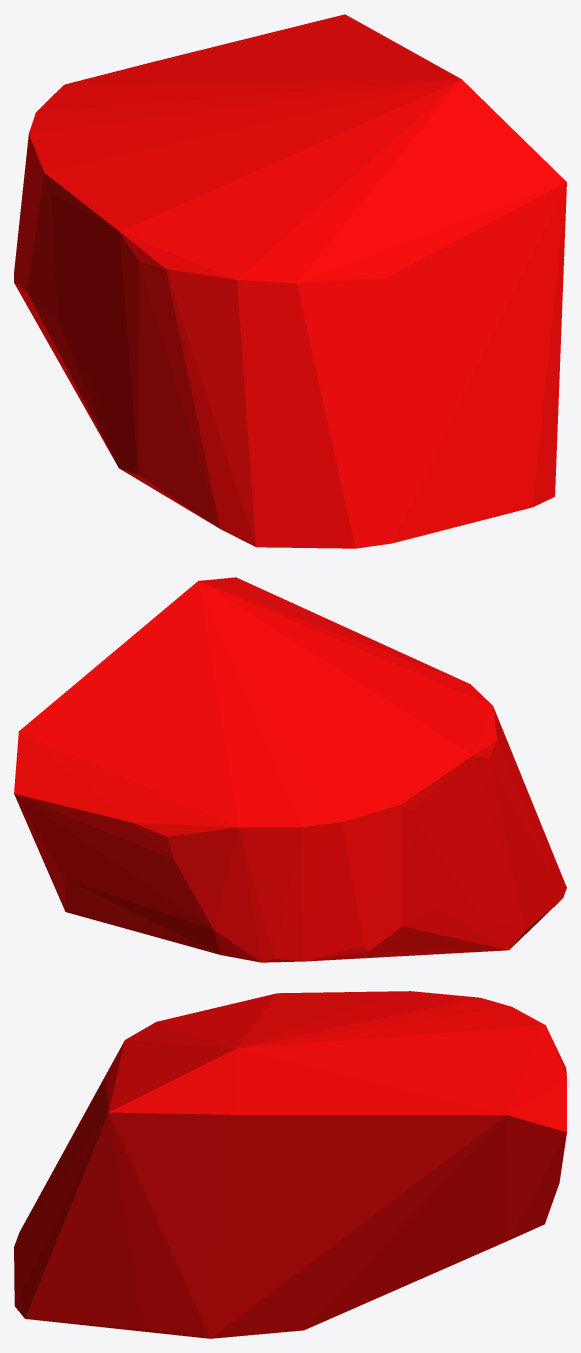
Rendered from tip_006_1_convex_hull_05.obj.
The picture shows the model from 3 angles, top to bottom: view 1: azimuth 30°, elevation 25°; view 2: azimuth 150°, elevation 25°; view 3: azimuth 270°, elevation 25°; orthographic projection. The views are drawn at different scales.
Parts seen in each view (by area): view 1: tip_006_1_convex_hull_05; view 2: tip_006_1_convex_hull_05; view 3: tip_006_1_convex_hull_05.
Boxes of the visible parts, x1=… form: tip_006_1_convex_hull_05: x1=14, y1=14, x2=566, y2=548; tip_006_1_convex_hull_05: x1=14, y1=577, x2=566, y2=962; tip_006_1_convex_hull_05: x1=14, y1=991, x2=566, y2=1338.
Size of the model in its own units: 0.00168 by 0.00139 by 0.00245.
